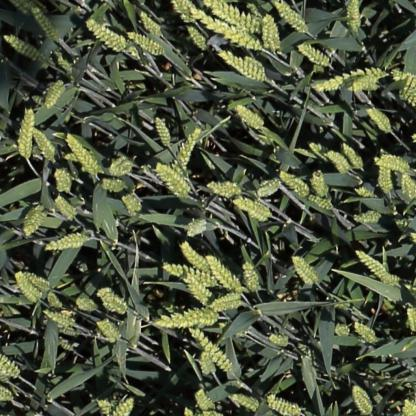whd: (192, 10, 261, 48), (187, 327, 238, 376), (216, 46, 270, 84), (314, 67, 386, 93), (205, 0, 262, 31), (83, 18, 130, 54), (154, 161, 194, 202), (160, 258, 216, 286), (149, 307, 222, 328), (171, 124, 200, 176), (67, 134, 104, 174), (272, 1, 311, 36), (204, 254, 238, 292), (28, 4, 60, 43), (13, 272, 47, 307), (30, 126, 60, 165), (4, 33, 44, 61), (14, 106, 33, 164), (297, 42, 335, 70), (180, 241, 210, 275), (369, 150, 413, 172), (45, 231, 87, 254), (18, 204, 46, 238), (355, 250, 387, 278), (233, 198, 270, 222), (207, 293, 247, 314), (325, 150, 356, 177), (392, 68, 416, 102), (291, 256, 318, 286), (186, 276, 213, 306), (279, 172, 310, 198), (267, 395, 305, 416), (338, 140, 364, 170), (378, 159, 397, 199), (262, 13, 280, 54), (98, 286, 126, 312), (234, 103, 263, 128), (42, 309, 80, 328), (184, 22, 208, 52), (131, 32, 162, 55), (63, 153, 102, 171), (53, 165, 76, 195), (351, 384, 373, 415), (308, 142, 335, 166), (242, 52, 270, 75), (52, 195, 76, 221), (367, 106, 391, 132), (206, 179, 242, 196), (153, 114, 172, 146), (44, 77, 64, 107), (11, 1, 41, 21), (138, 11, 161, 36), (311, 168, 330, 198), (242, 260, 258, 294), (96, 320, 120, 342), (171, 0, 195, 22), (0, 354, 21, 379), (121, 191, 142, 216), (400, 170, 416, 202), (346, 76, 377, 92), (353, 208, 380, 226), (99, 177, 129, 193), (305, 193, 332, 210), (230, 394, 258, 410), (199, 350, 215, 378), (355, 323, 377, 343), (186, 218, 208, 238), (112, 396, 134, 416), (346, 1, 360, 32), (24, 274, 50, 290), (255, 180, 280, 196), (75, 292, 97, 310), (110, 155, 132, 173), (194, 389, 213, 408), (399, 85, 415, 105), (268, 333, 289, 347), (404, 308, 416, 331), (354, 187, 378, 198), (95, 399, 111, 415), (334, 322, 350, 336), (48, 291, 62, 307), (59, 325, 79, 336), (382, 275, 400, 284), (61, 342, 74, 350)
